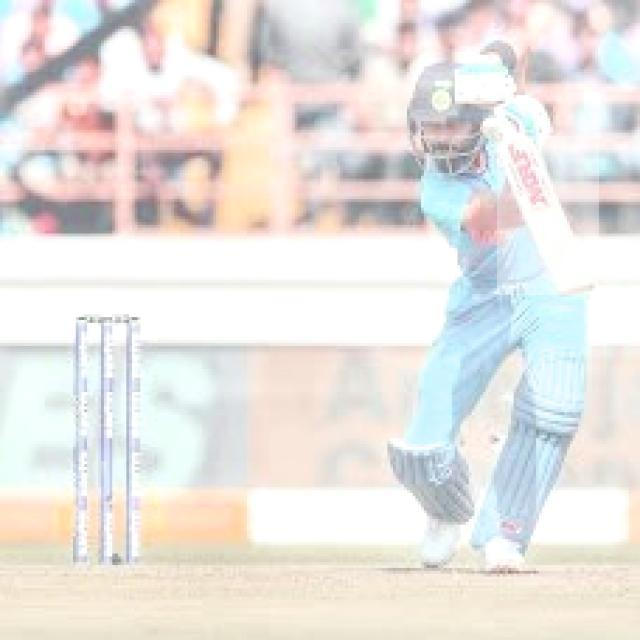bat: (498, 94, 601, 309)
toe: (555, 264, 606, 297)
